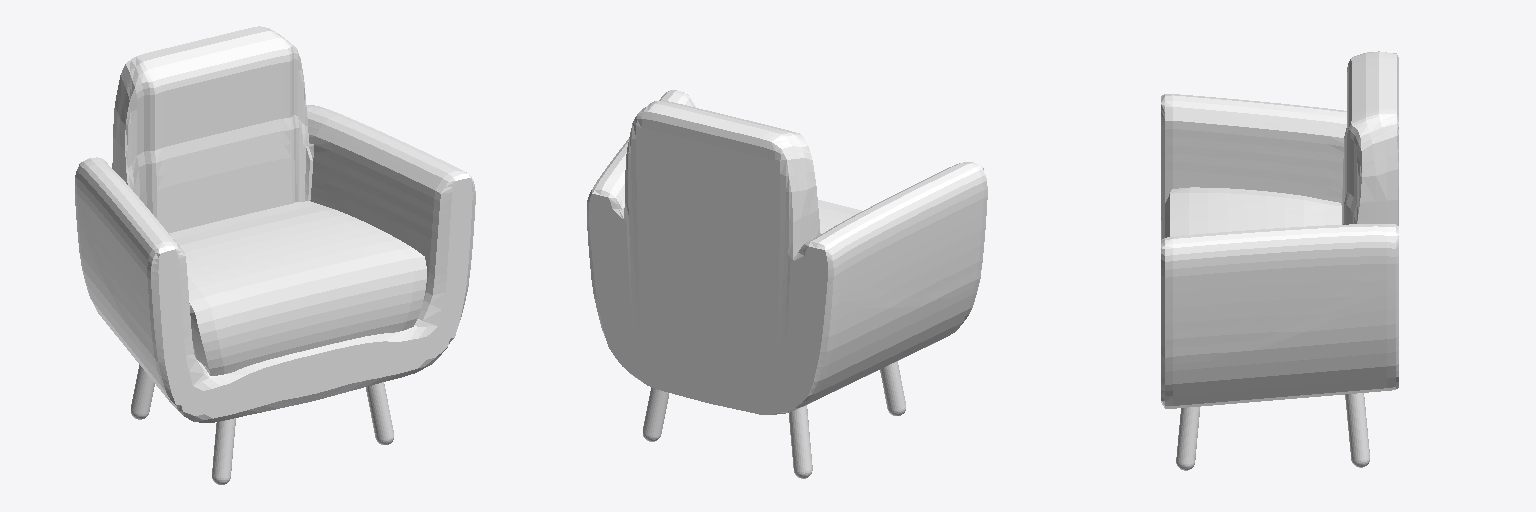
Rendered from armchair.obj.
3 views of the same model, side by side, from view 1: azimuth 30°, elevation 25°; view 2: azimuth 150°, elevation 25°; view 3: azimuth 270°, elevation 25° (orthographic).
Visible parts, largest first — view 1: armchair_Cube; view 2: armchair_Cube; view 3: armchair_Cube.
Boxes of the visible parts, box(x1,y1,x2,y2) form: armchair_Cube: box(75, 26, 475, 484); armchair_Cube: box(587, 90, 987, 478); armchair_Cube: box(1161, 51, 1398, 470).
Bounding box in the file's own units: 0.7663 × 0.7844 × 0.4877.